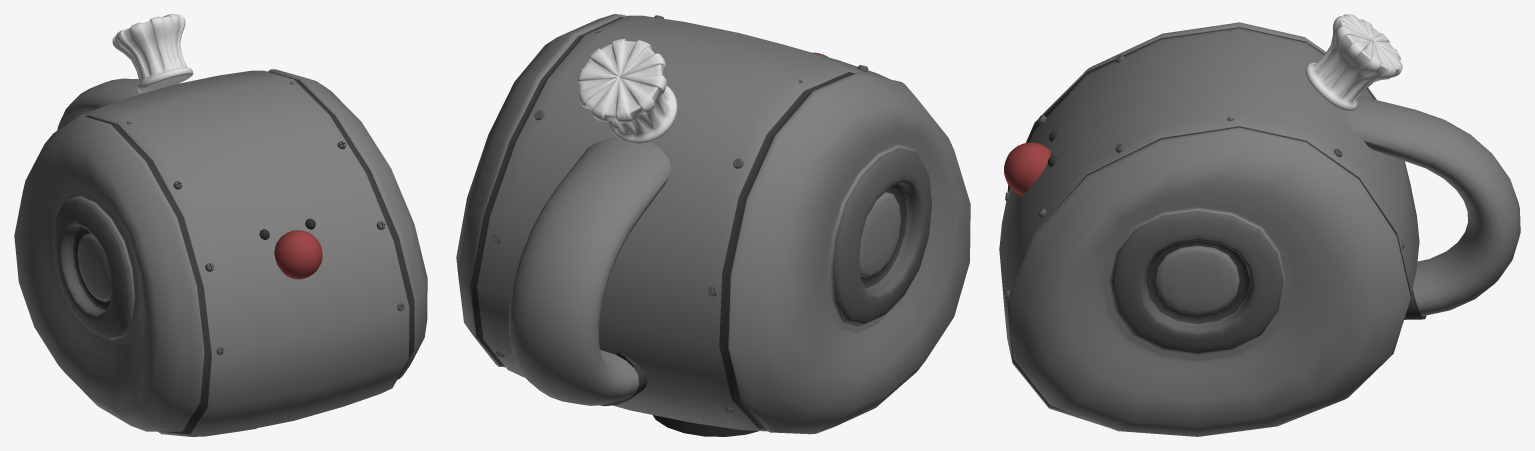
File: robotrecolour.fbx
The picture shows the model from 3 angles, left to right: view 1: azimuth 30°, elevation 25°; view 2: azimuth 150°, elevation 25°; view 3: azimuth 270°, elevation 25°; orthographic projection. The views are drawn at different scales.
Visible parts, largest first — view 1: pCube1, chef_hat1, nose, pTorus4; view 2: pCube1, pTorus4, chef_hat1, pCylinder3; view 3: pCube1, pTorus4, chef_hat1, nose.
Boxes of the visible parts, x1,y1,x2,y2 form: pCube1: (14, 69, 427, 436); chef_hat1: (112, 14, 193, 92); nose: (274, 230, 322, 279); pTorus4: (57, 78, 143, 130); pCube1: (456, 14, 970, 434); pTorus4: (509, 137, 670, 406); chef_hat1: (577, 38, 677, 143); pCylinder3: (653, 415, 758, 436); pCube1: (999, 22, 1419, 436); pTorus4: (1343, 96, 1520, 319); chef_hat1: (1305, 14, 1402, 111); nose: (1004, 142, 1050, 195).
Bounding box in the file's own units: 63.57 × 75.05 × 92.54.
